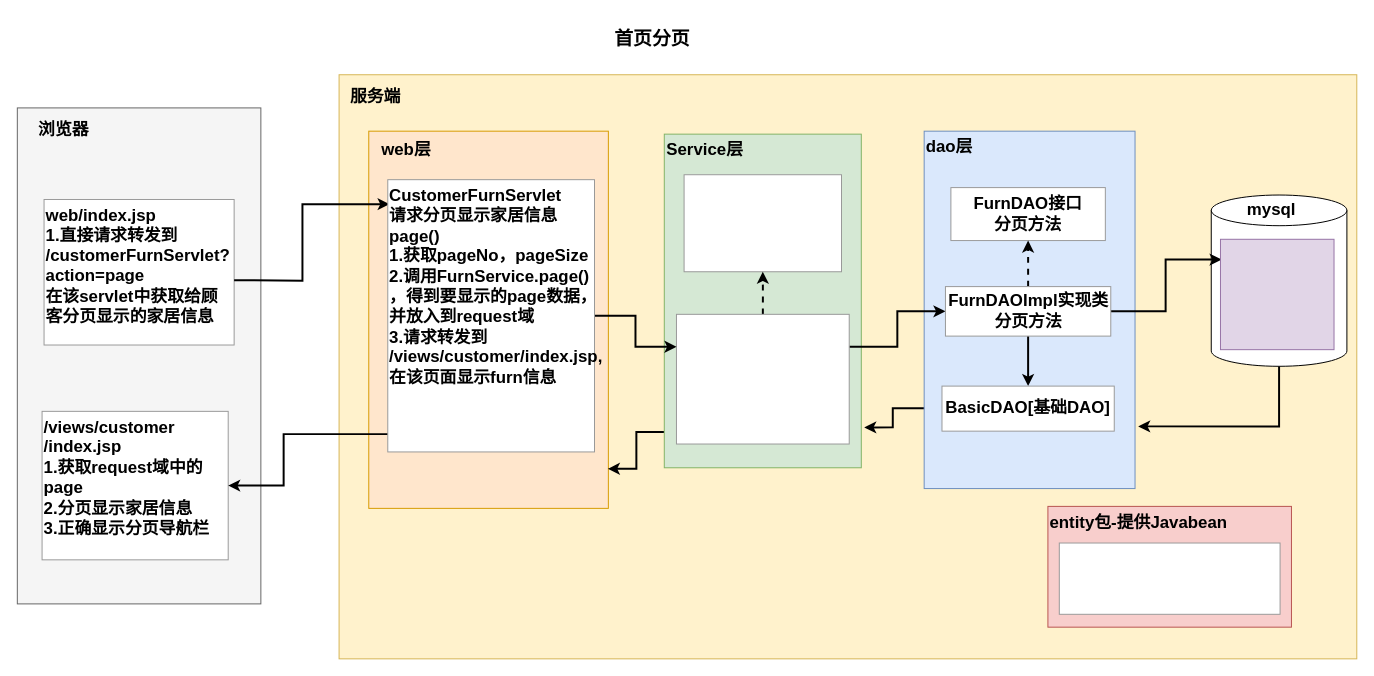
Some shapes in this 1374 by 676 pixel diagram are drawn without their labels. Here are the shapes that lost their labels. From the top down, the centre of each, then its label:
At point 762,223: "FurnService.java [接口]声明 分页相关方法page".
At point 1276,294: "furn表[家居表] 字段 id name marker...".
At point 762,378: "FurnServiceImpl .java实现类： 分页相关方法 一个重要方法 page，可以返回某页要显示的家居信息".
At point 1169,578: "Page.java-分页的各个信息 pageSize，pageNo items该页要显示的Furn集合".
